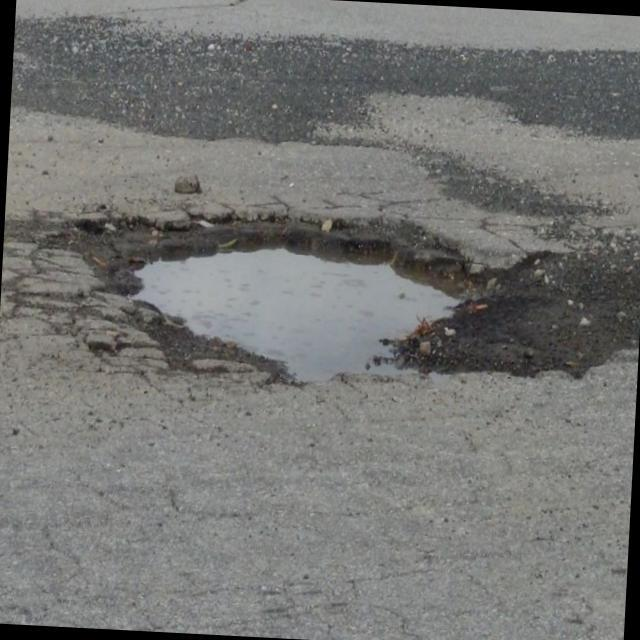Pothole: (72, 180, 496, 410)
